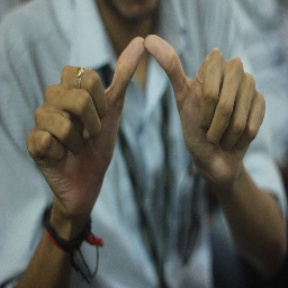A: (37, 29, 257, 158)
